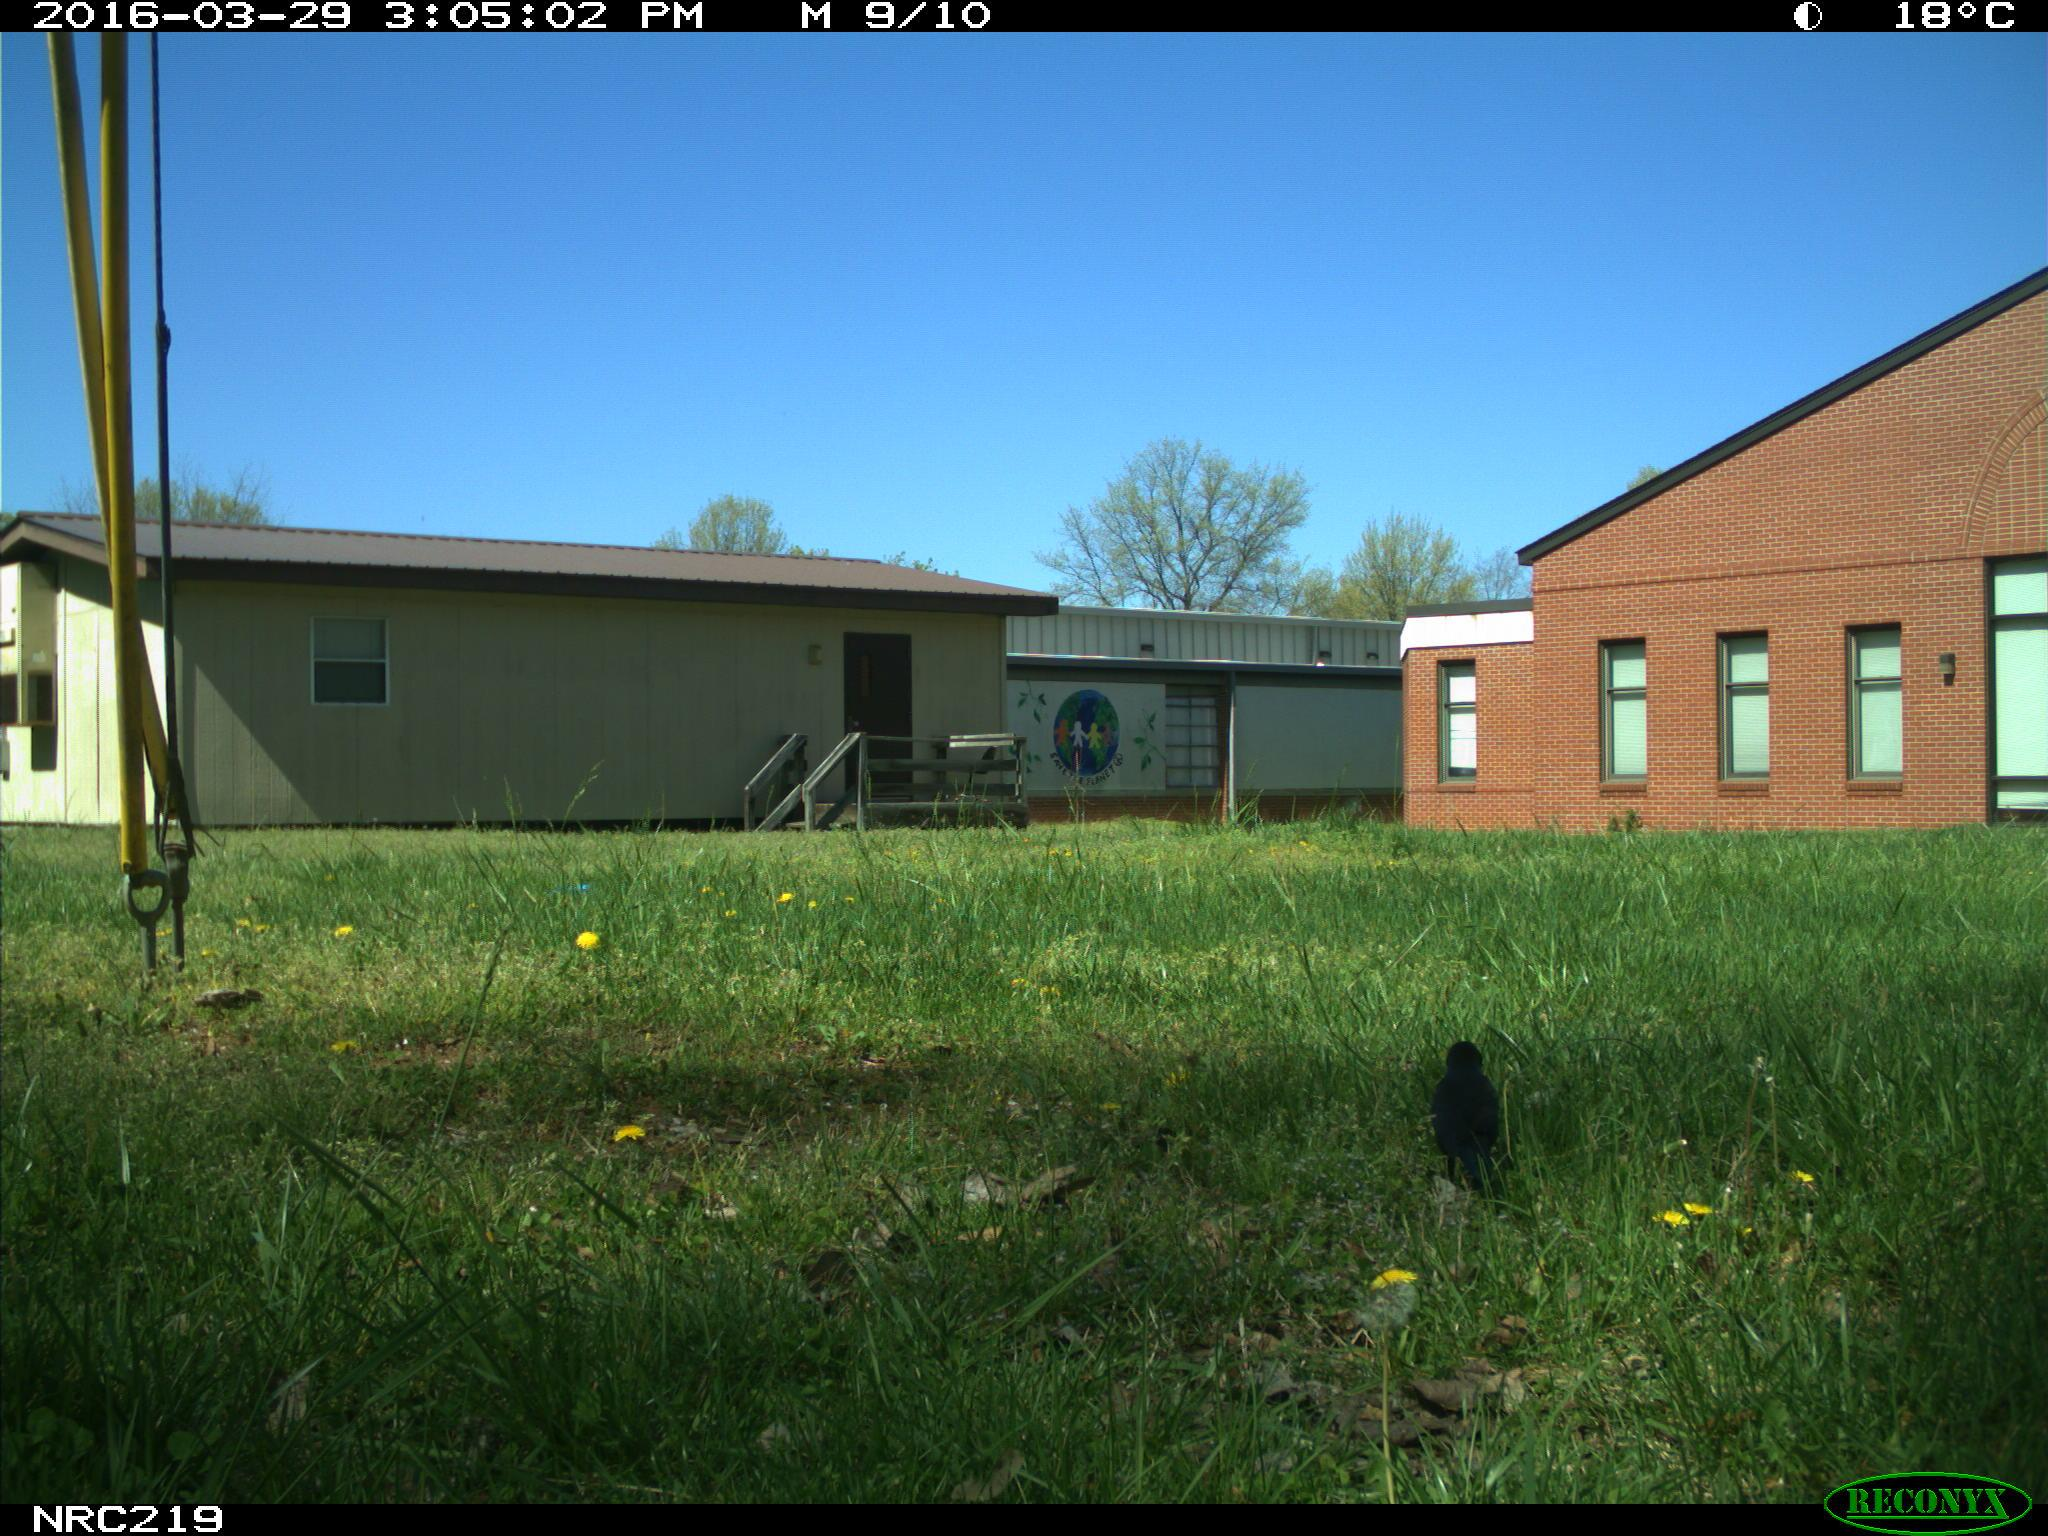Animal: (1429, 1039, 1501, 1179)
